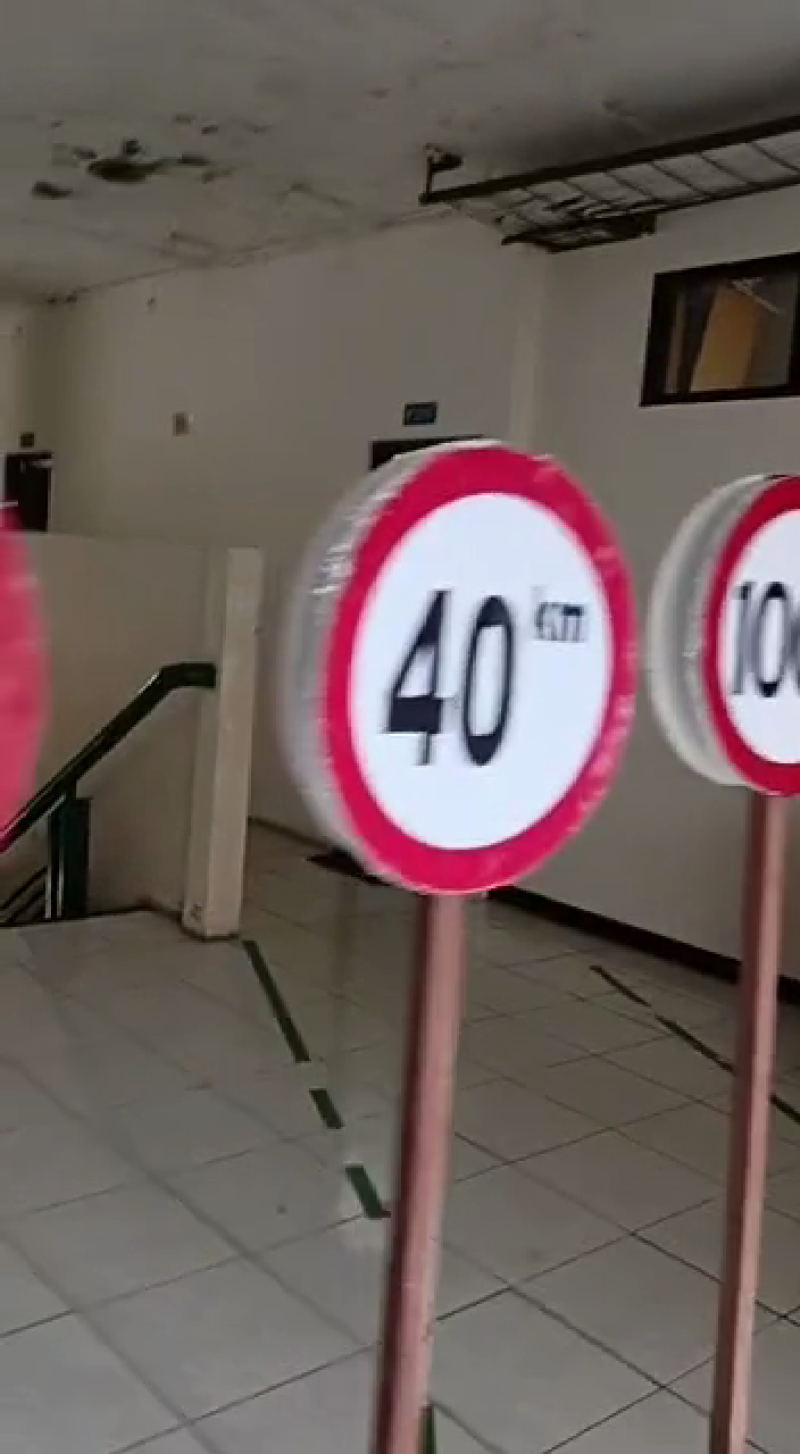batas maksimal 40kmperjam: (292, 440, 646, 898)
